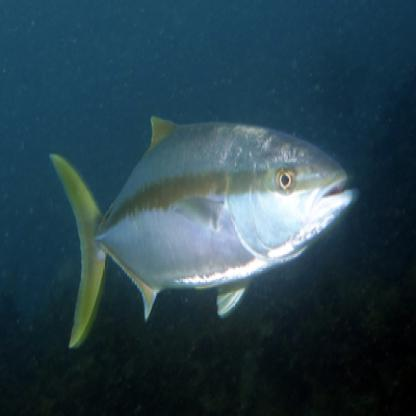jack: (52, 98, 358, 355)
